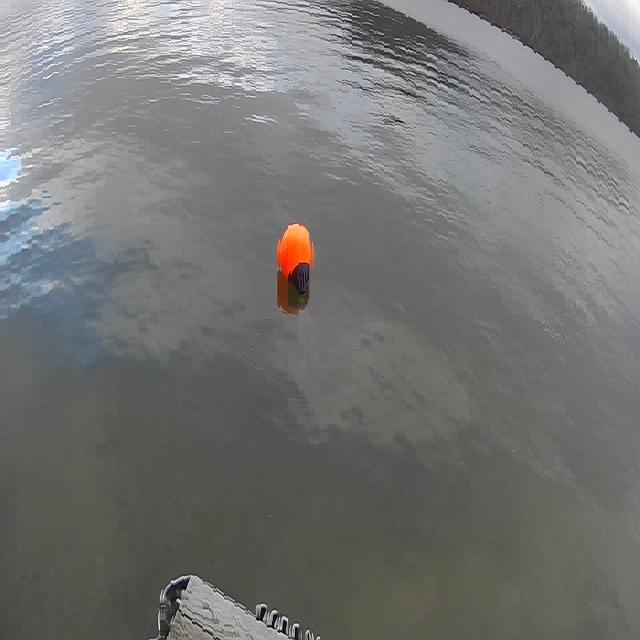Buoy: (273, 215, 320, 301)
